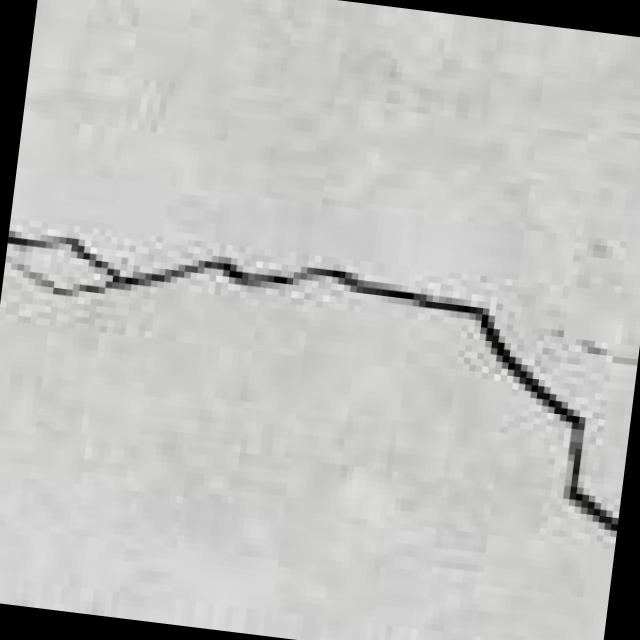crack: (0, 211, 640, 529)
